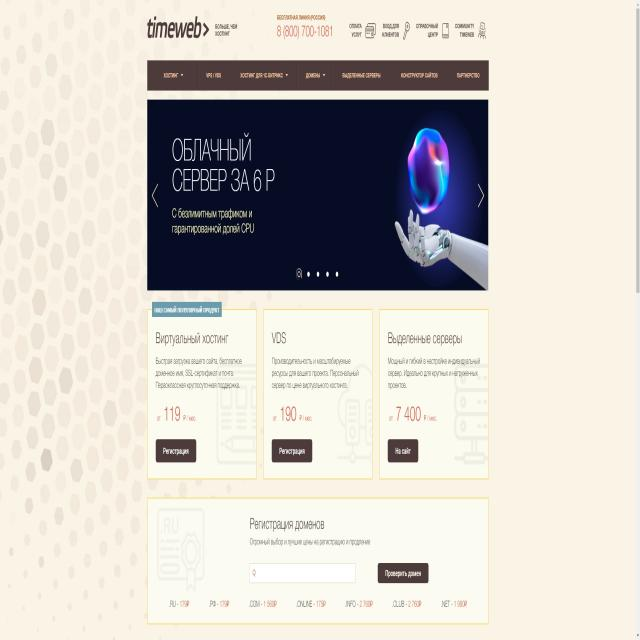menu-bar: (342, 15, 491, 56)
search: (247, 557, 356, 589)
tab-bar: (148, 52, 486, 88)
